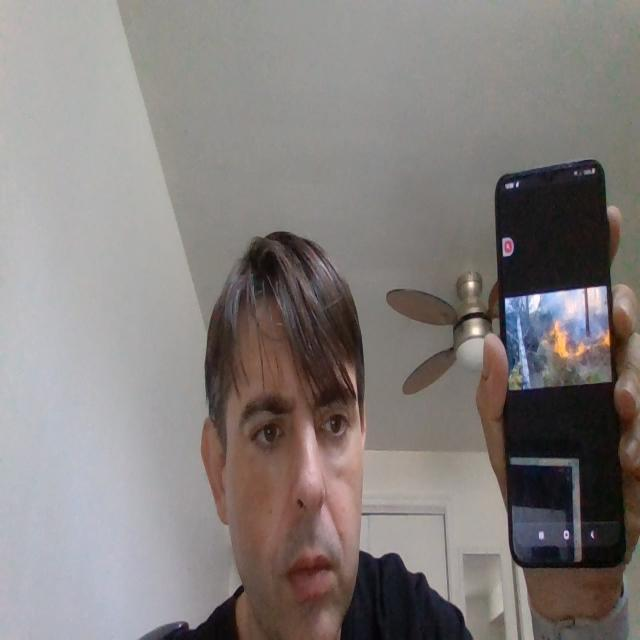Fire: (542, 315, 610, 366)
